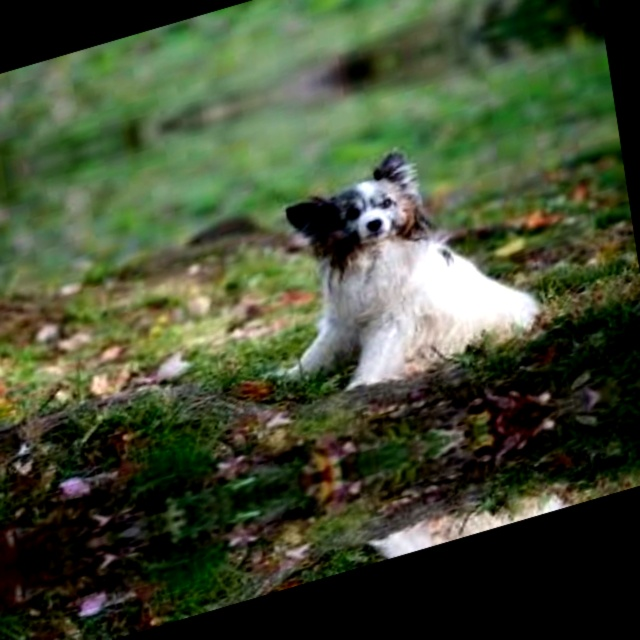dog: (241, 90, 545, 404), (301, 488, 572, 584), (217, 0, 491, 45)
